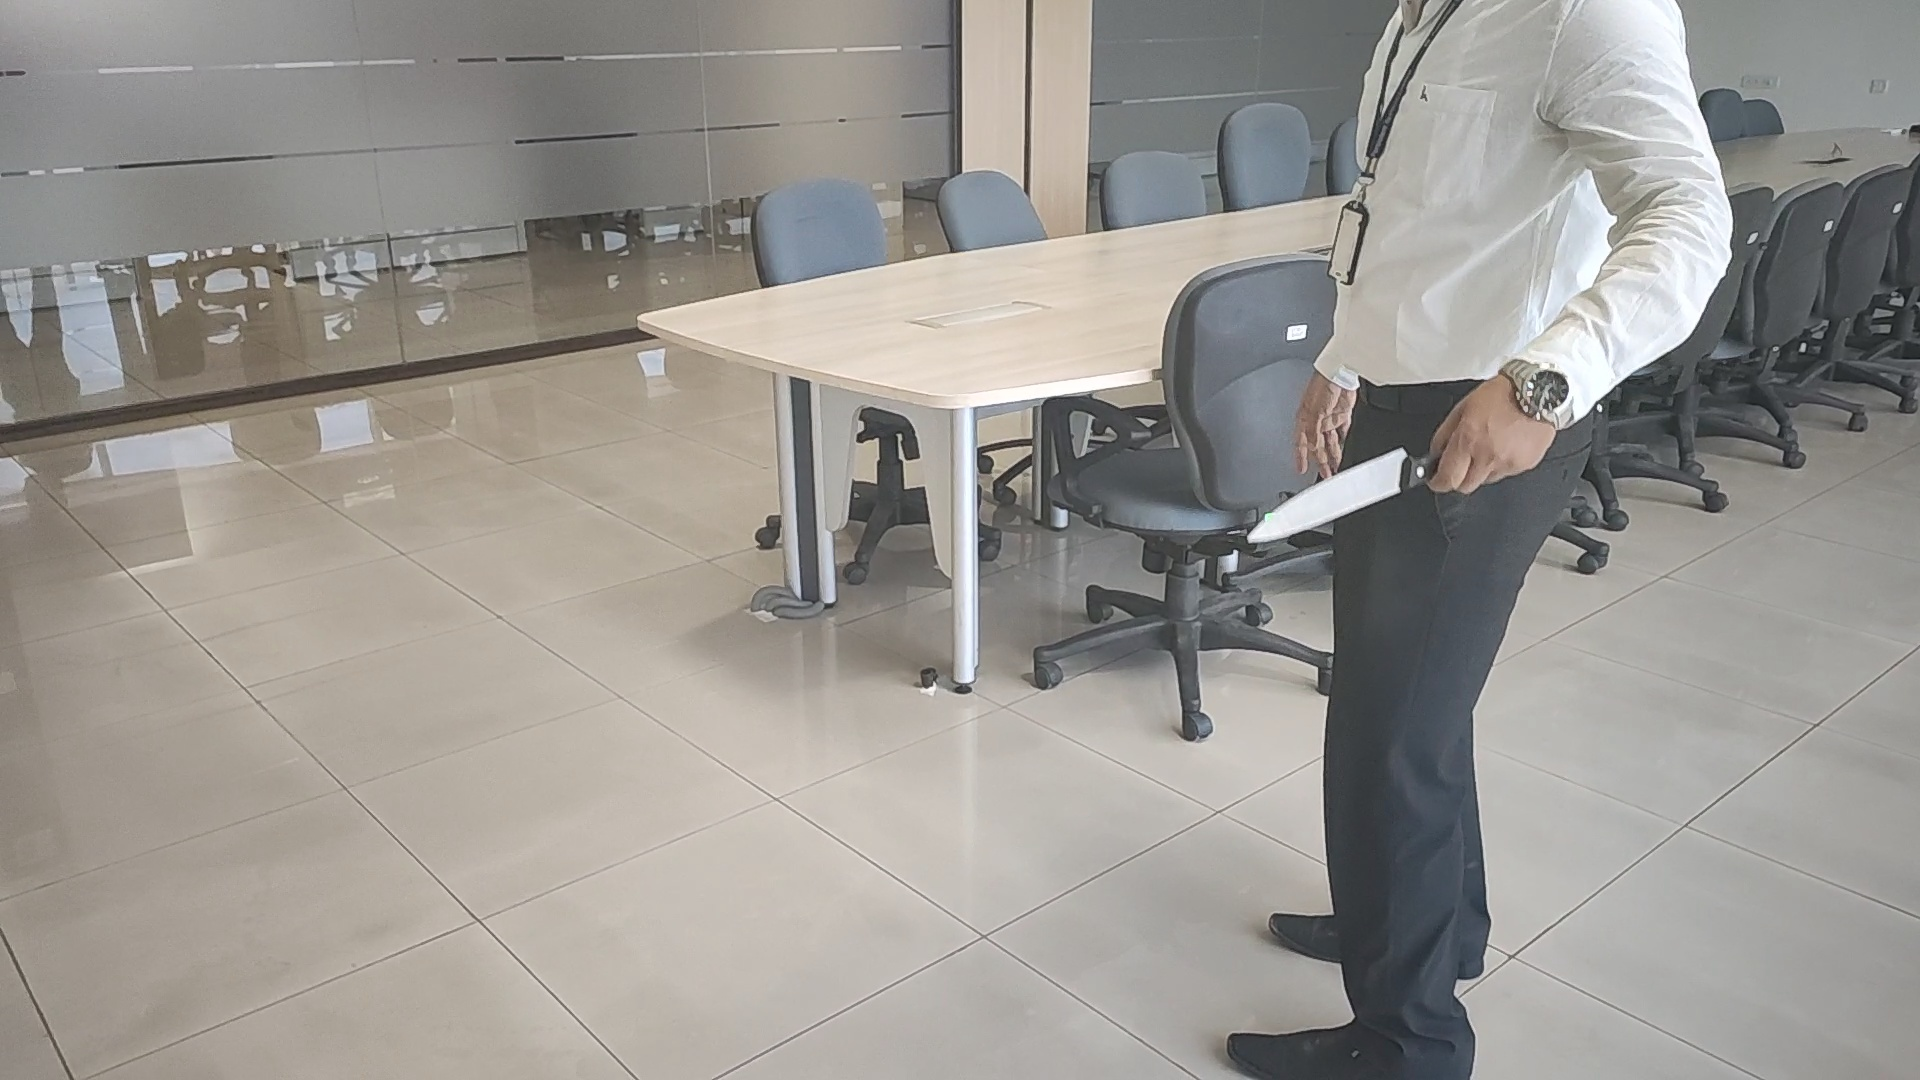knife: (1245, 446, 1443, 549)
